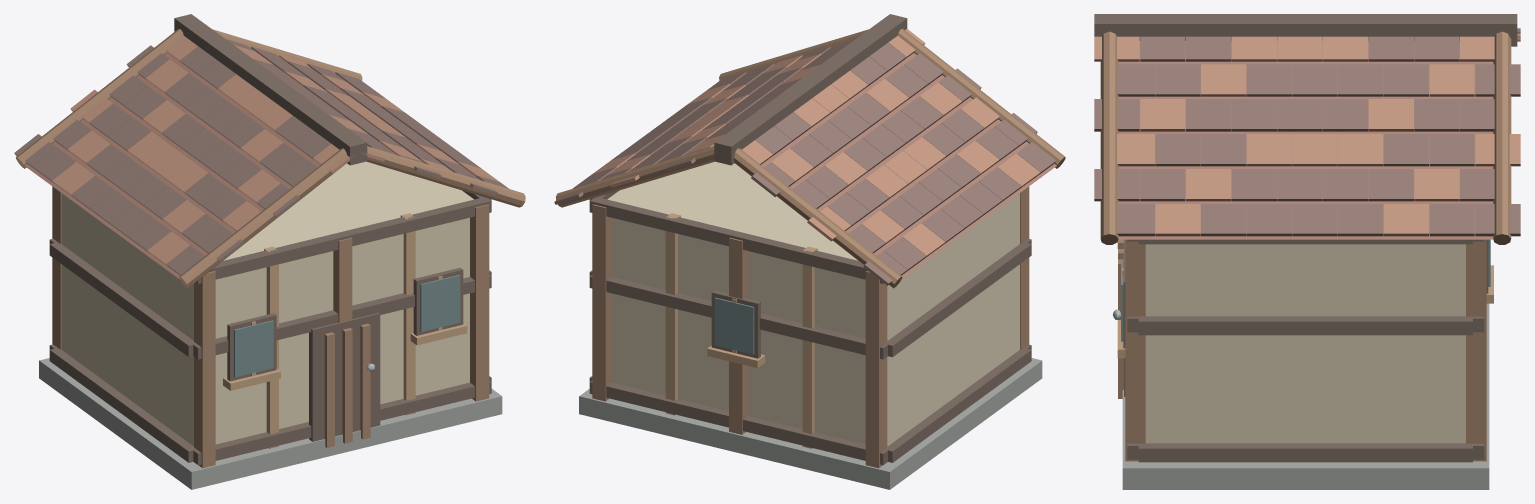
File: house_timbersmall.glb
3 renders of one model, left to right at view 1: azimuth 30°, elevation 25°; view 2: azimuth 150°, elevation 25°; view 3: azimuth 270°, elevation 25°, orthographic. The views are drawn at different scales.
Visible parts, largest first — view 1: house_timbersmall_plaster, house_timbersmall_roof_dark, house_timbersmall_wood_dark, house_timbersmall_wood, house_timbersmall_roof_light, house_timbersmall_stone_mid, house_timbersmall_roof, house_timbersmall_wood_light, house_timbersmall_window; view 2: house_timbersmall_plaster, house_timbersmall_roof_dark, house_timbersmall_wood_dark, house_timbersmall_wood, house_timbersmall_roof_light, house_timbersmall_stone_mid, house_timbersmall_roof, house_timbersmall_wood_light, house_timbersmall_window; view 3: house_timbersmall_plaster, house_timbersmall_roof_dark, house_timbersmall_wood_dark, house_timbersmall_roof_light, house_timbersmall_wood, house_timbersmall_stone_mid, house_timbersmall_roof, house_timbersmall_wood_light.
Part boxes in pixels (x1,y1,x2,y2): house_timbersmall_plaster: (61, 161, 473, 446); house_timbersmall_roof_dark: (14, 39, 508, 275); house_timbersmall_wood_dark: (49, 14, 491, 465); house_timbersmall_wood: (16, 29, 525, 468); house_timbersmall_roof_light: (52, 35, 500, 265); house_timbersmall_stone_mid: (39, 358, 502, 489); house_timbersmall_roof: (24, 53, 320, 279); house_timbersmall_wood_light: (223, 213, 467, 448); house_timbersmall_window: (234, 275, 460, 377); house_timbersmall_plaster: (607, 161, 1019, 446); house_timbersmall_roof_dark: (554, 39, 1055, 285); house_timbersmall_wood_dark: (589, 14, 1031, 465); house_timbersmall_wood: (556, 29, 1065, 468); house_timbersmall_roof_light: (593, 29, 1040, 257); house_timbersmall_stone_mid: (579, 358, 1042, 489); house_timbersmall_roof: (761, 53, 1056, 279); house_timbersmall_wood_light: (665, 213, 817, 448); house_timbersmall_window: (714, 297, 754, 354); house_timbersmall_plaster: (1145, 244, 1465, 443); house_timbersmall_roof_dark: (1094, 28, 1520, 236); house_timbersmall_wood_dark: (1094, 14, 1517, 462); house_timbersmall_roof_light: (1094, 33, 1520, 236); house_timbersmall_wood: (1100, 31, 1511, 461); house_timbersmall_stone_mid: (1122, 303, 1489, 489); house_timbersmall_roof: (1118, 41, 1493, 239); house_timbersmall_wood_light: (1117, 241, 1493, 358).
Bounding box in the file's own units: 4.42 × 3.88 × 3.95.
